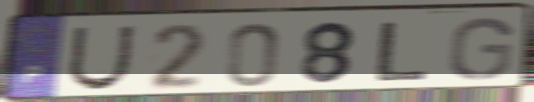0: (225, 20, 283, 89)
2: (148, 22, 208, 92)
8: (299, 19, 357, 86)
G: (445, 15, 517, 82)
L: (372, 20, 433, 83)
U: (64, 24, 138, 93)
